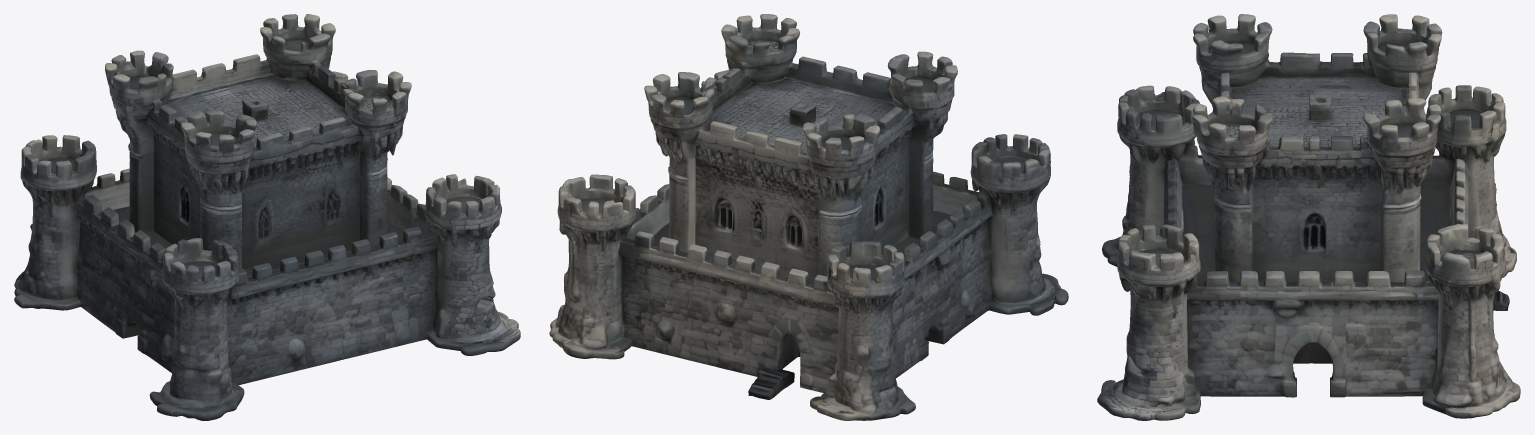
The model's file is building-castle-keep.glb.
3 renders of one model, left to right at view 1: azimuth 30°, elevation 25°; view 2: azimuth 150°, elevation 25°; view 3: azimuth 270°, elevation 25°, orthographic. The views are drawn at different scales.
Visible parts, largest first — view 1: tripo_node_94e444b9-28f1-43f7-af38-03972a11a96c; view 2: tripo_node_94e444b9-28f1-43f7-af38-03972a11a96c; view 3: tripo_node_94e444b9-28f1-43f7-af38-03972a11a96c.
Boxes of the visible parts, x1,y1,x2,y2 form: tripo_node_94e444b9-28f1-43f7-af38-03972a11a96c: (14,14,520,420); tripo_node_94e444b9-28f1-43f7-af38-03972a11a96c: (549,14,1068,420); tripo_node_94e444b9-28f1-43f7-af38-03972a11a96c: (1097,14,1520,420).
Bounding box in the file's own units: 28.19 × 18 × 26.6.
1 material, 1 textured.
